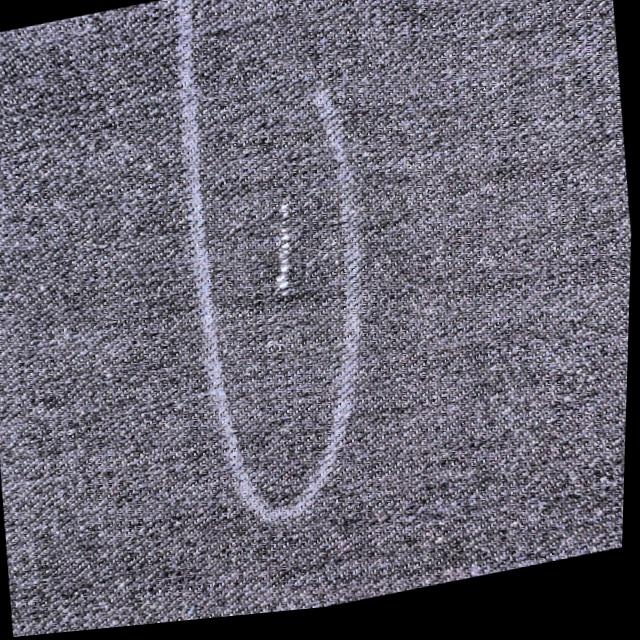Hole: (241, 184, 325, 324)
